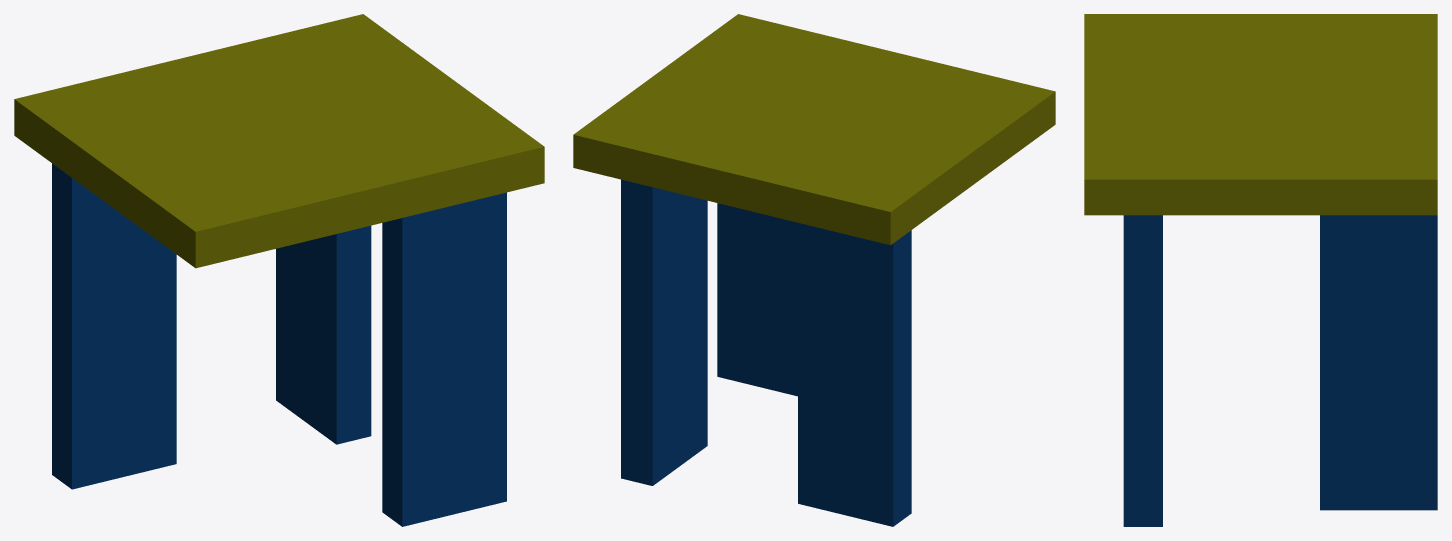
Rendered from Pillar_02_H_F.fbx.
The picture shows the model from 3 angles, left to right: view 1: azimuth 30°, elevation 25°; view 2: azimuth 150°, elevation 25°; view 3: azimuth 270°, elevation 25°; orthographic projection. The views are drawn at different scales.
Parts seen in each view (by area): view 1: 1, 4, 2, 3; view 2: 4, 2, 1, 3; view 3: 2, 1, 3, 4.
Boxes of the visible parts, left/top/right/bottom form: 1: left=280, top=80, right=544, bottom=526; 4: left=14, top=56, right=278, bottom=489; 2: left=189, top=14, right=453, bottom=444; 3: left=105, top=123, right=370, bottom=268; 4: left=732, top=113, right=973, bottom=526; 2: left=573, top=74, right=813, bottom=485; 1: left=656, top=14, right=896, bottom=396; 3: left=815, top=53, right=1055, bottom=184; 2: left=1261, top=97, right=1437, bottom=510; 1: left=1084, top=97, right=1260, bottom=526; 3: left=1084, top=14, right=1260, bottom=96; 4: left=1261, top=14, right=1437, bottom=96.
Bounding box in the file's own units: 200 × 200 × 180.
